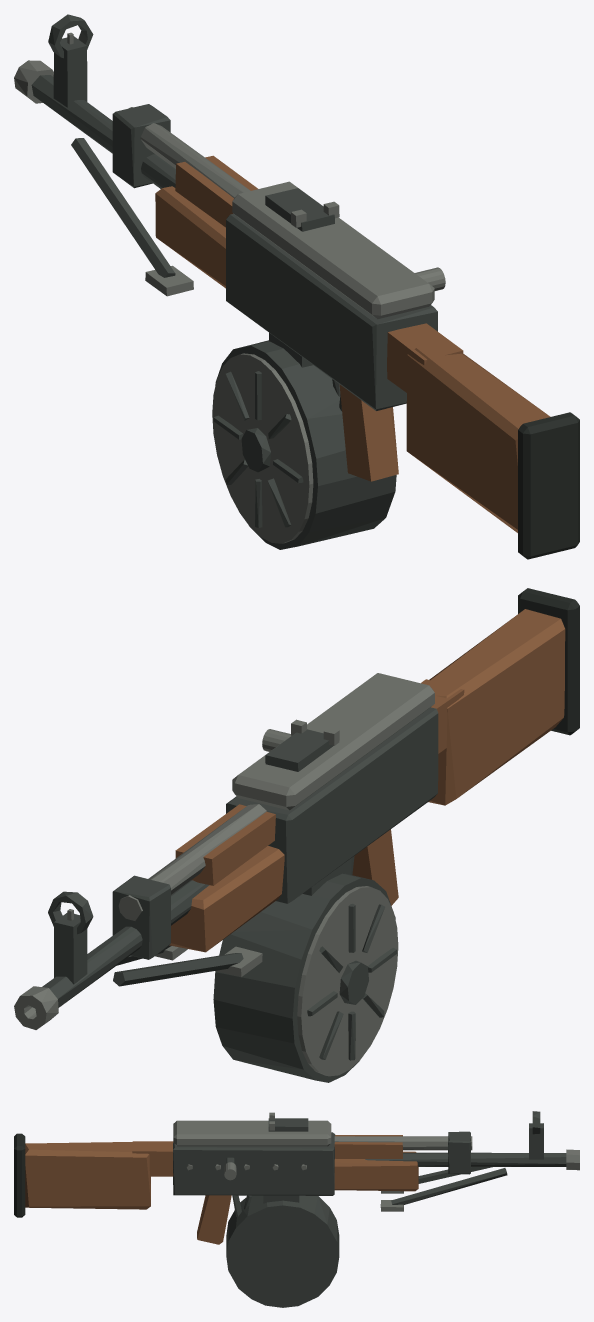
The model's file is rpk-support-lod.glb.
The picture shows the model from 3 angles, top to bottom: view 1: azimuth 30°, elevation 25°; view 2: azimuth 150°, elevation 25°; view 3: azimuth 270°, elevation 25°; orthographic projection. The views are drawn at different scales.
Visible parts, largest first — view 1: RPKBody_phosphate steel, RPKBody_oiled wood, RPKBody_worn edges, Magazine_phosphate steel, Magazine_worn edges, RPKBody_black rubber; view 2: RPKBody_phosphate steel, RPKBody_oiled wood, Magazine_phosphate steel, RPKBody_worn edges, Magazine_worn edges, RPKBody_black rubber; view 3: RPKBody_oiled wood, RPKBody_phosphate steel, Magazine_phosphate steel, RPKBody_worn edges, RPKBody_black rubber.
Part boxes in pixels (x1,y1,x2,y2): RPKBody_phosphate steel: [31, 14, 437, 410]; RPKBody_oiled wood: [155, 155, 550, 532]; RPKBody_worn edges: [14, 32, 434, 319]; Magazine_phosphate steel: [213, 333, 396, 549]; Magazine_worn edges: [212, 353, 313, 543]; RPKBody_black rubber: [518, 412, 579, 559]; RPKBody_phosphate steel: [42, 707, 438, 1007]; RPKBody_oiled wood: [169, 609, 565, 952]; Magazine_phosphate steel: [213, 863, 396, 1082]; RPKBody_worn edges: [14, 673, 434, 1029]; Magazine_worn edges: [297, 886, 398, 1076]; RPKBody_black rubber: [518, 588, 579, 735]; RPKBody_oiled wood: [25, 1135, 418, 1244]; RPKBody_phosphate steel: [173, 1111, 566, 1216]; Magazine_phosphate steel: [226, 1195, 339, 1307]; RPKBody_worn edges: [173, 1112, 579, 1211]; RPKBody_black rubber: [14, 1133, 25, 1217].
Size of the model in its own units: 0.1705 by 0.4027 by 1.11.
